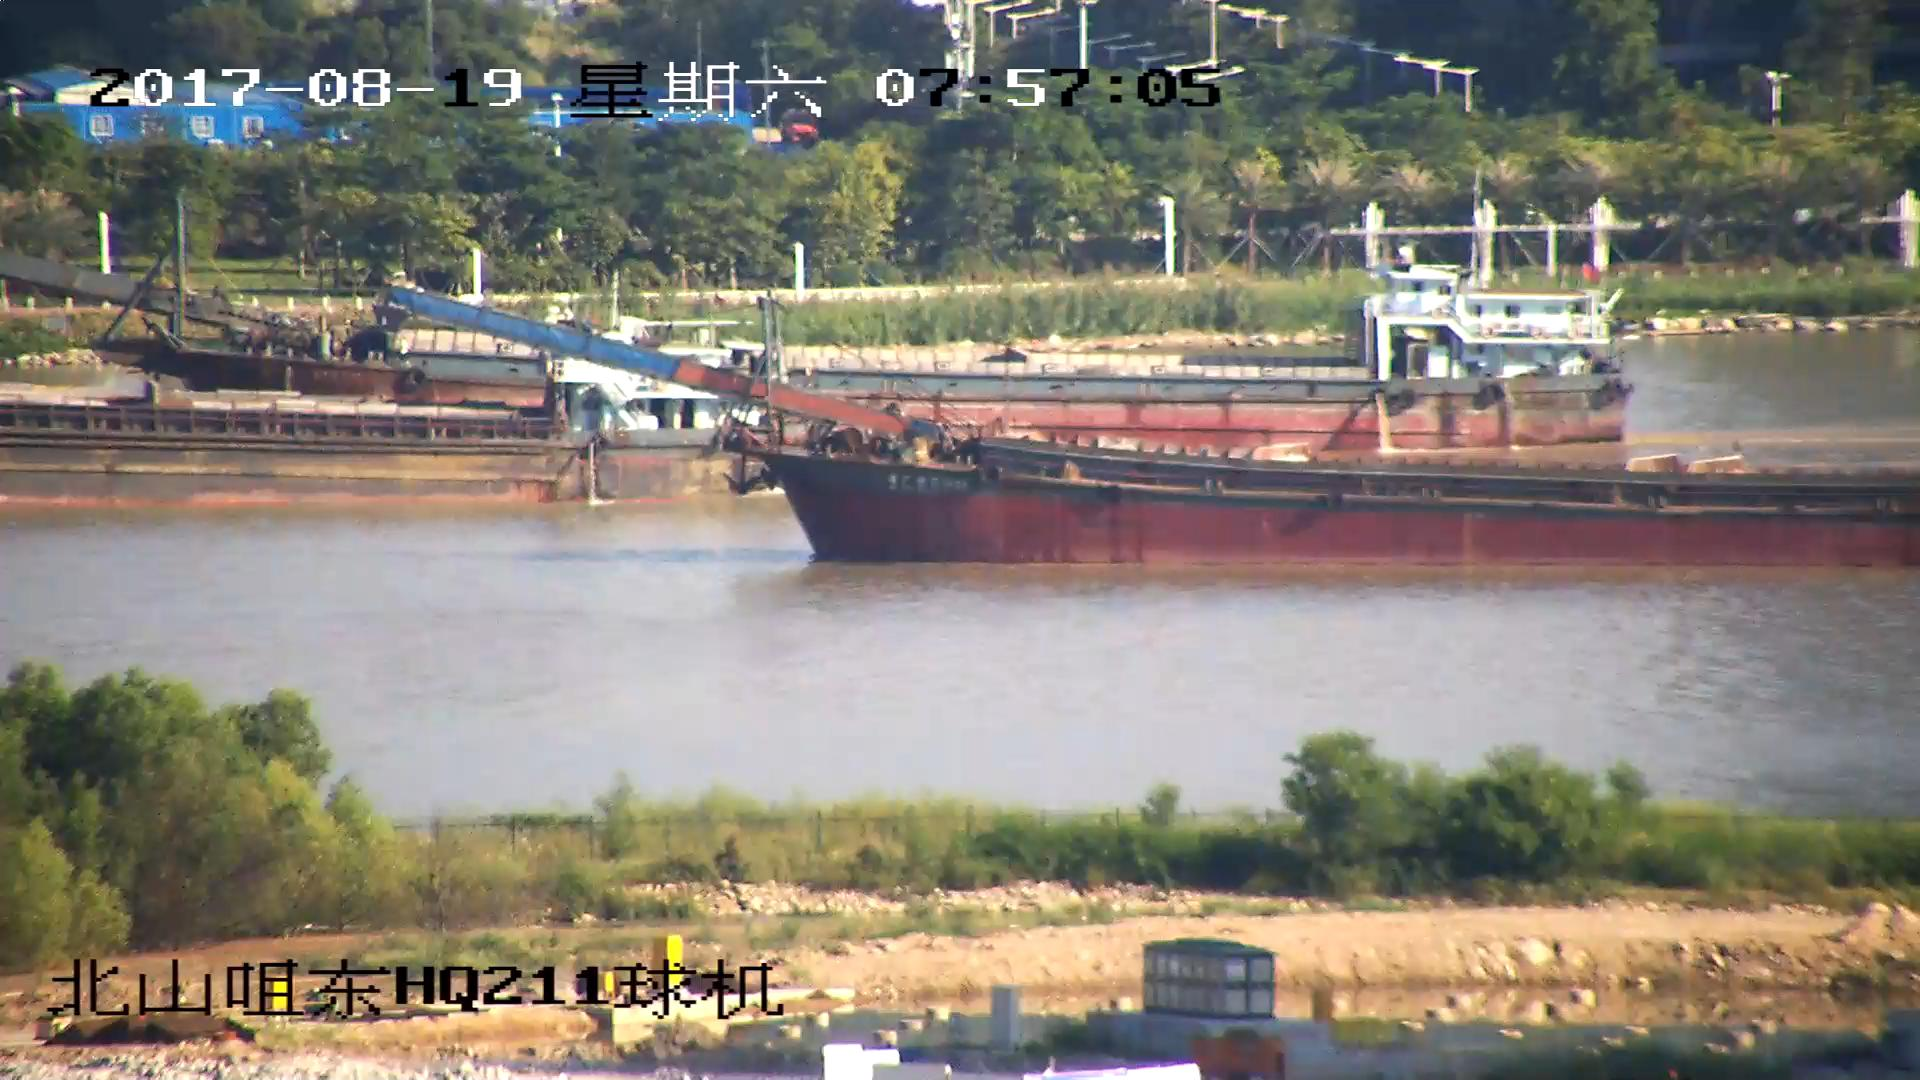bulk cargo carrier: (387, 290, 1920, 569), (1, 186, 1664, 381), (1, 389, 711, 505)
